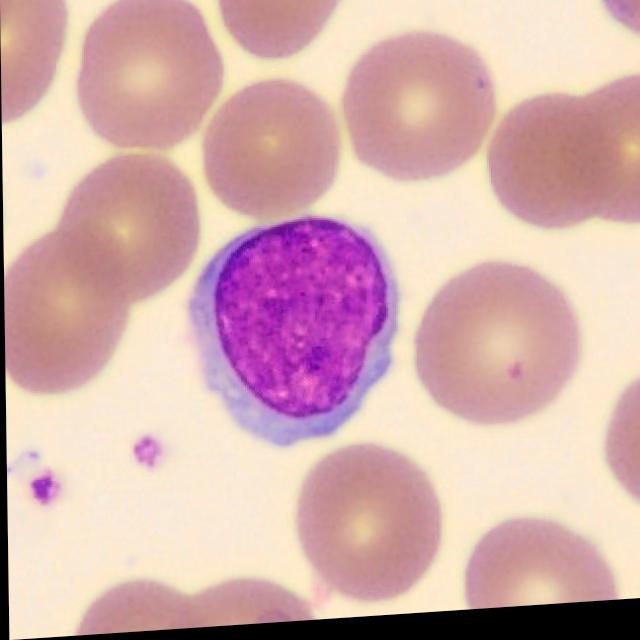Linfocito: (189, 220, 399, 448)
